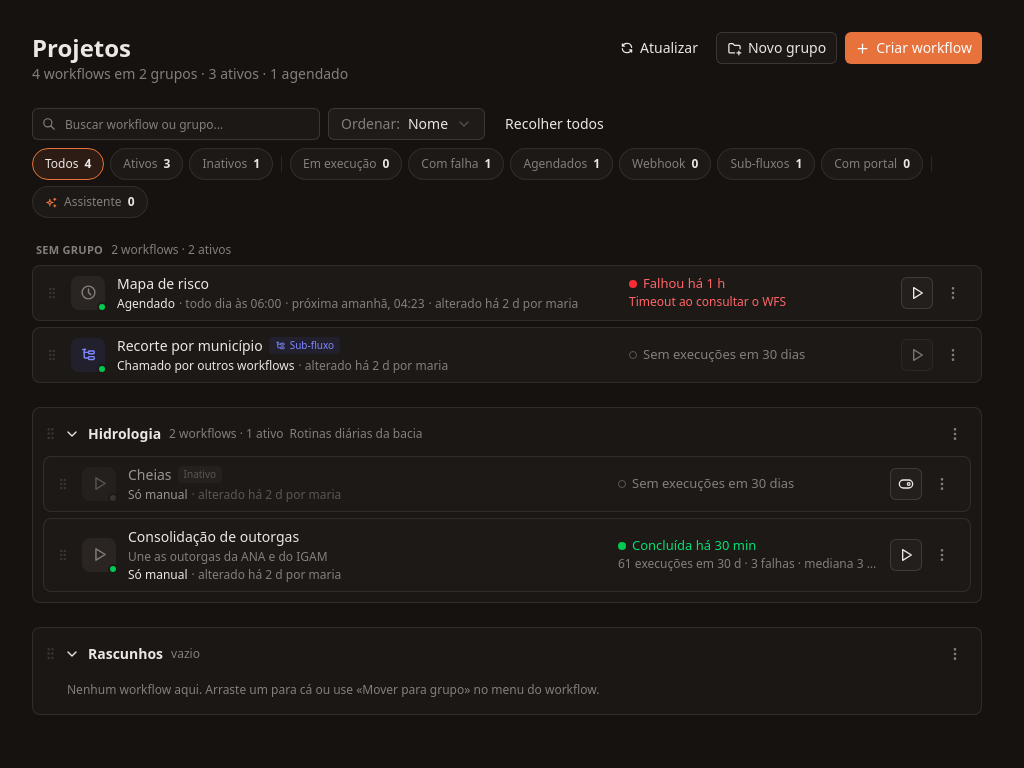
Test: Projetos — página › Ativar é direto: sem diálogo, PUT e toast com o nome
Click the button named "Ativar Cheias" at [906, 484], box [890,468,922,500]
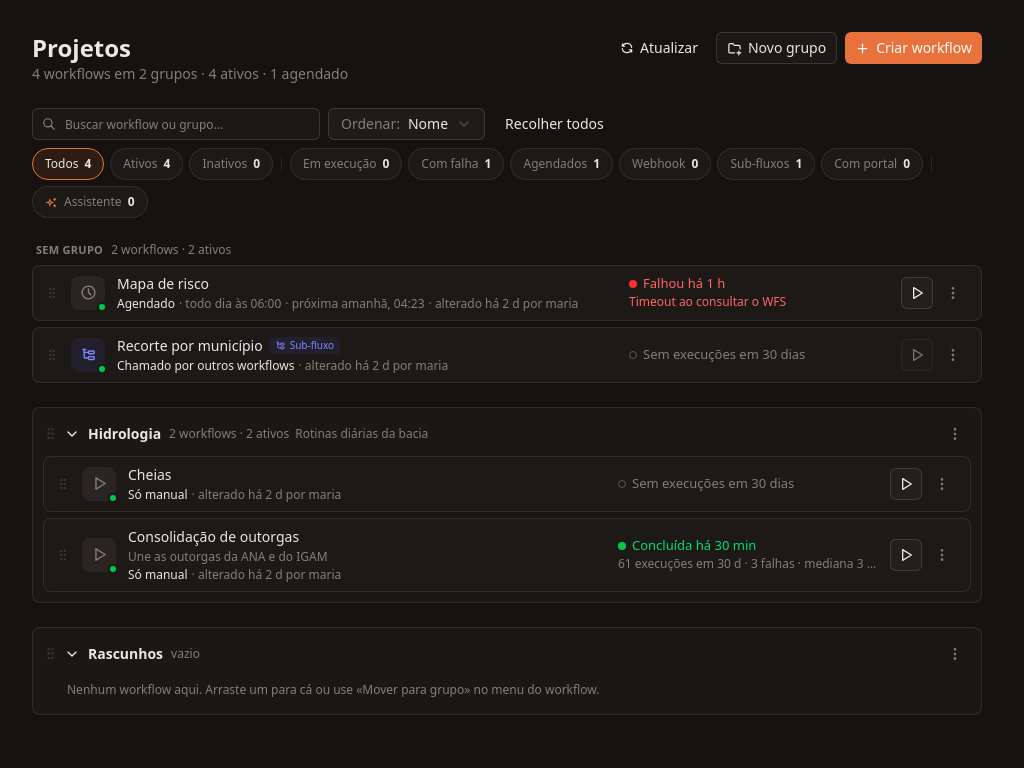
Check: the element named "Abrir Cheias no editor" does not show "Inativo", box [43,456,971,512]
Check: the button named "Executar Cheias agora" is shown, box [890,468,922,500]
